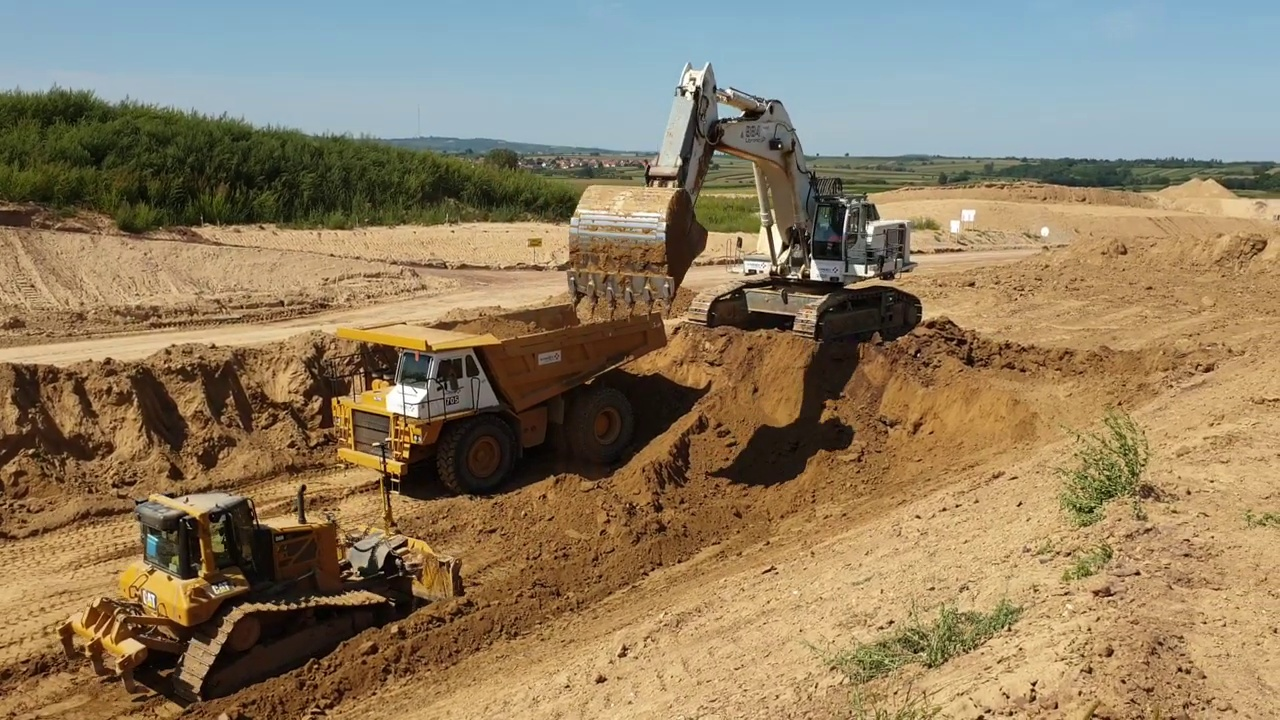bulldozer: (57, 436, 466, 709)
excavator: (559, 55, 926, 348)
truck: (321, 293, 676, 500)
